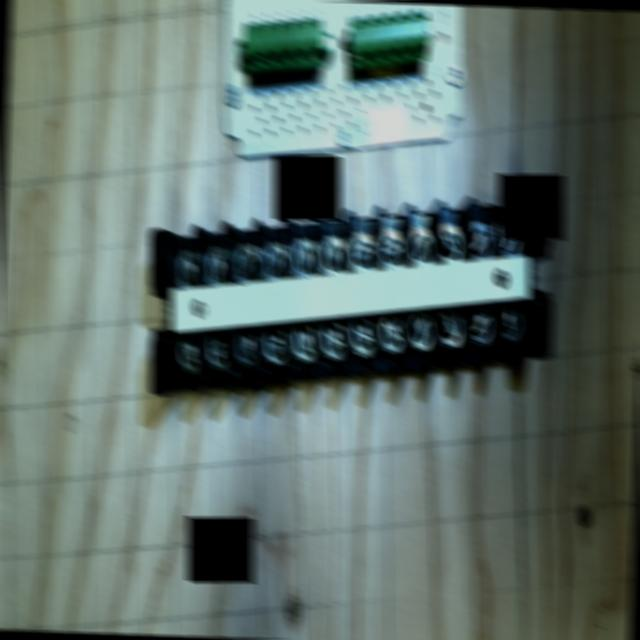Flathead_Block: (135, 192, 566, 395)
Terminal_1: (342, 8, 434, 70), (240, 17, 326, 71)
